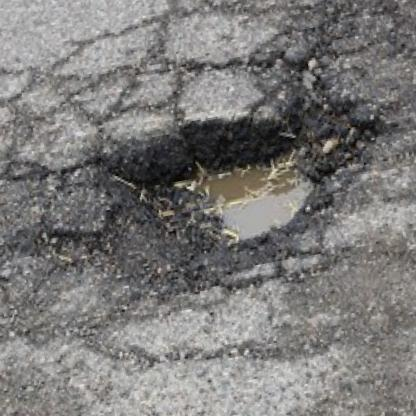pothole: (98, 82, 403, 301)
